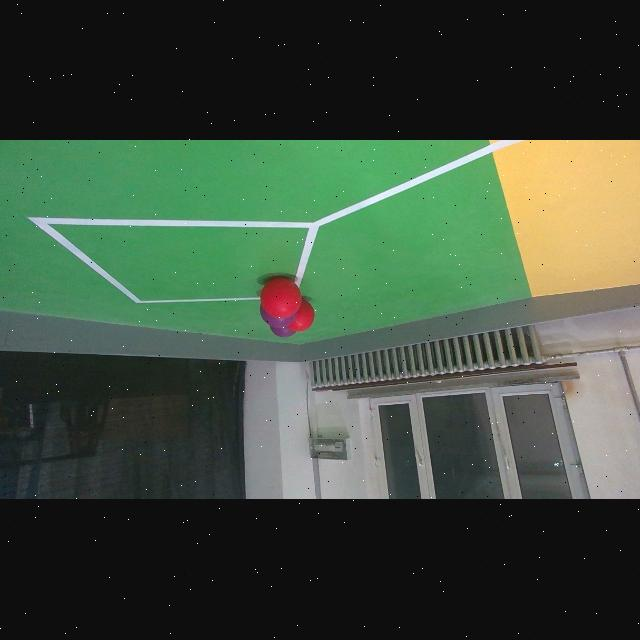P: (268, 318, 292, 338)
R: (260, 277, 302, 319), (294, 296, 316, 334)
